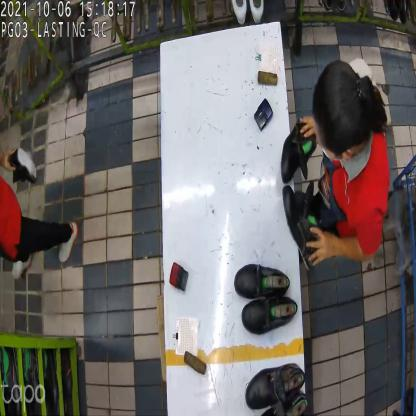shoes: (280, 120, 322, 270), (232, 264, 300, 334), (243, 356, 308, 416)
stamp: (254, 97, 275, 131), (170, 261, 191, 294)
